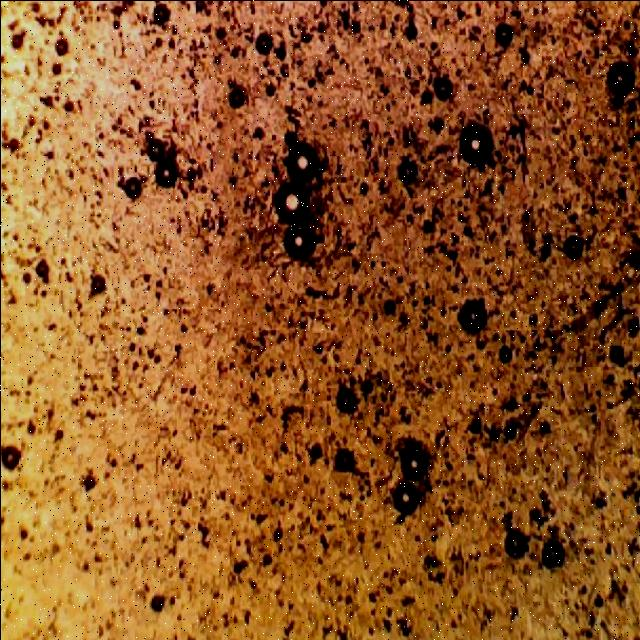microbeads: (272, 186, 312, 228), (458, 122, 494, 168), (285, 142, 319, 184), (455, 296, 489, 334), (388, 479, 420, 517), (399, 445, 431, 483), (607, 60, 637, 100)
